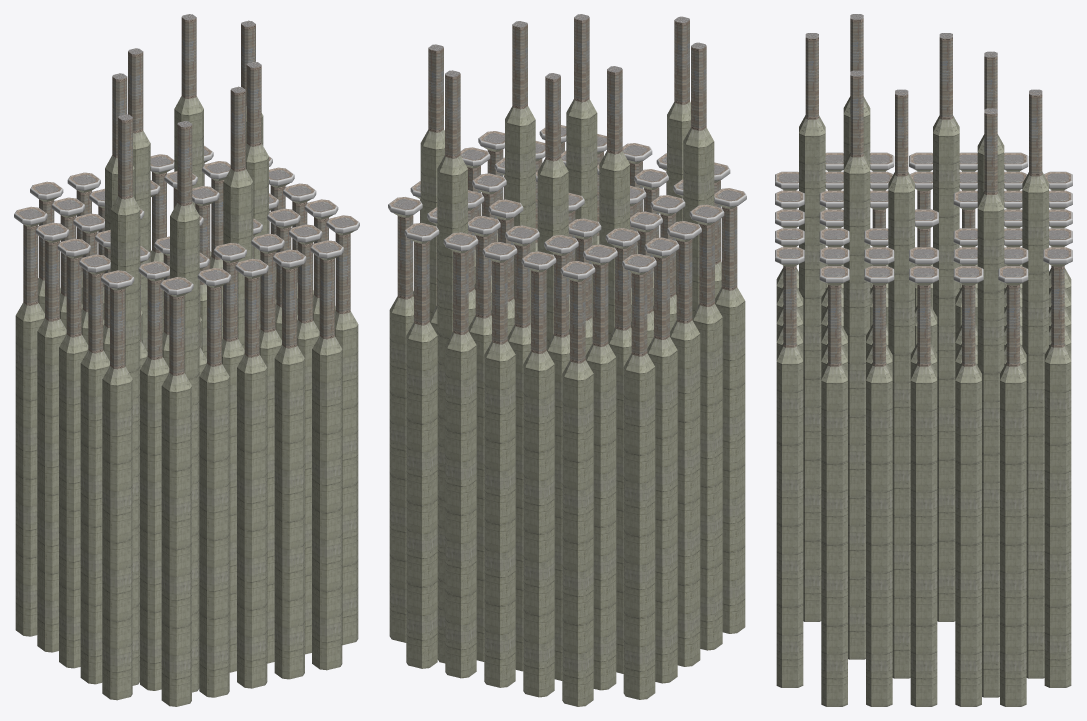
Rendered from Dragonfly_Pillars.fbx.
The picture shows the model from 3 angles, left to right: view 1: azimuth 30°, elevation 25°; view 2: azimuth 150°, elevation 25°; view 3: azimuth 270°, elevation 25°; orthographic projection. The views are drawn at different scales.
Visible parts, largest first — view 1: Cube, Cube2; view 2: Cube, Cube2; view 3: Cube, Cube2.
Part boxes in pixels (box(x1,y1,x2,y2)): Cube: box(14, 145, 359, 706); Cube2: box(105, 14, 268, 692); Cube: box(388, 125, 746, 706); Cube2: box(420, 14, 714, 663); Cube: box(775, 152, 1072, 706); Cube2: box(799, 14, 1048, 697).
Size of the model in its own units: 100 by 215 by 100.
